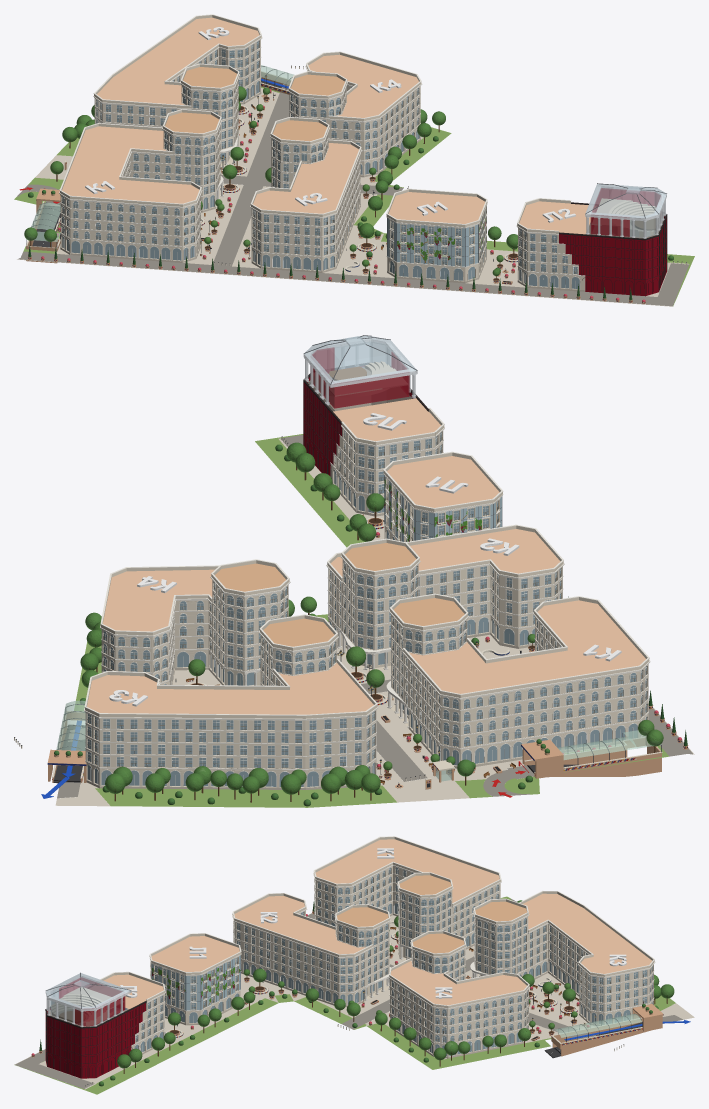
Rendered from kvartal3d.glb.
3 views of the same model, one above another, from view 1: azimuth 30°, elevation 25°; view 2: azimuth 150°, elevation 25°; view 3: azimuth 270°, elevation 25° (orthographic). The views are drawn at different scales.
Parts seen in each view (by area): view 1: sloj_31_, sloj_40_, sloj_32_, sloj_33_; view 2: sloj_31_, sloj_40_, sloj_32_, sloj_33_; view 3: sloj_31_, sloj_40_, sloj_32_, sloj_33_.
Boxes of the visible parts, left/top/right/bottom form: sloj_31_: left=59, top=14, right=667, bottom=296; sloj_40_: left=14, top=65, right=694, bottom=306; sloj_32_: left=585, top=183, right=666, bottom=238; sloj_33_: left=85, top=27, right=575, bottom=222; sloj_31_: left=84, top=363, right=650, bottom=789; sloj_40_: left=14, top=434, right=694, bottom=807; sloj_32_: left=303, top=335, right=417, bottom=408; sloj_33_: left=109, top=413, right=621, bottom=706; sloj_31_: left=45, top=836, right=655, bottom=1078; sloj_40_: left=14, top=896, right=694, bottom=1094; sloj_32_: left=45, top=972, right=131, bottom=1027; sloj_33_: left=120, top=848, right=626, bottom=998.
Bounding box in the file's own units: 178 × 33.8 × 229.
